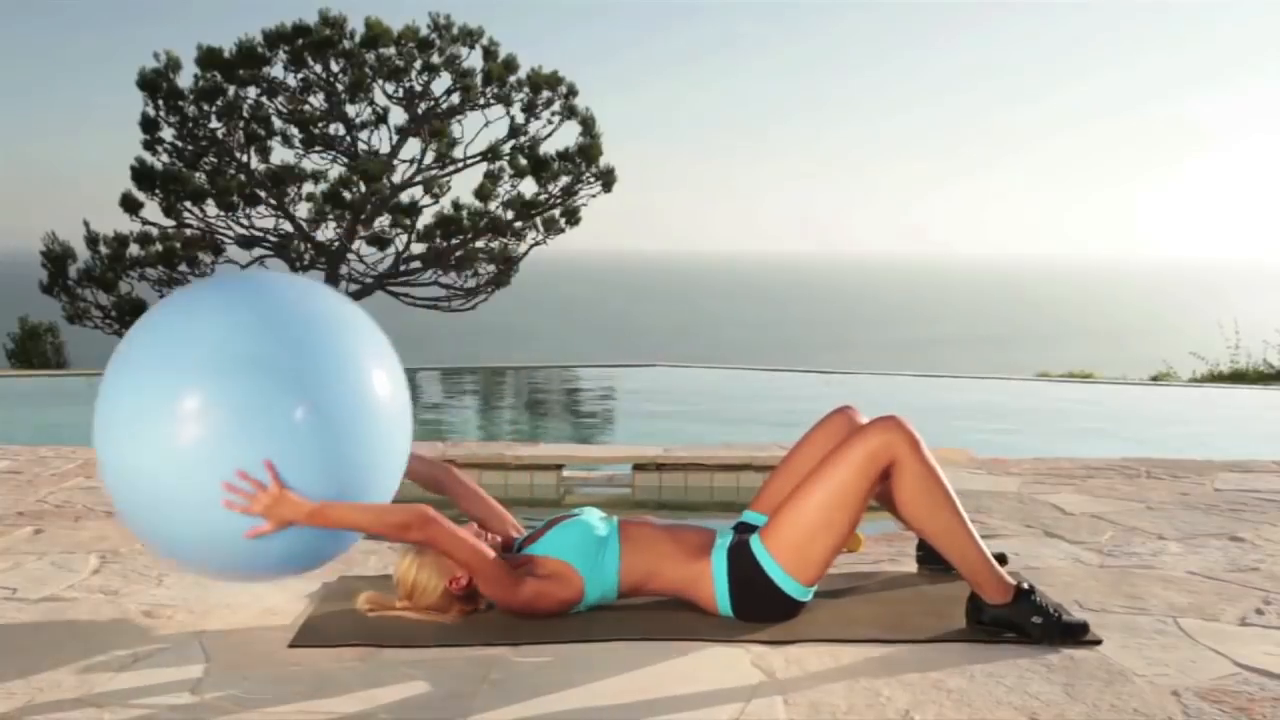yogaball: (88, 261, 422, 587)
